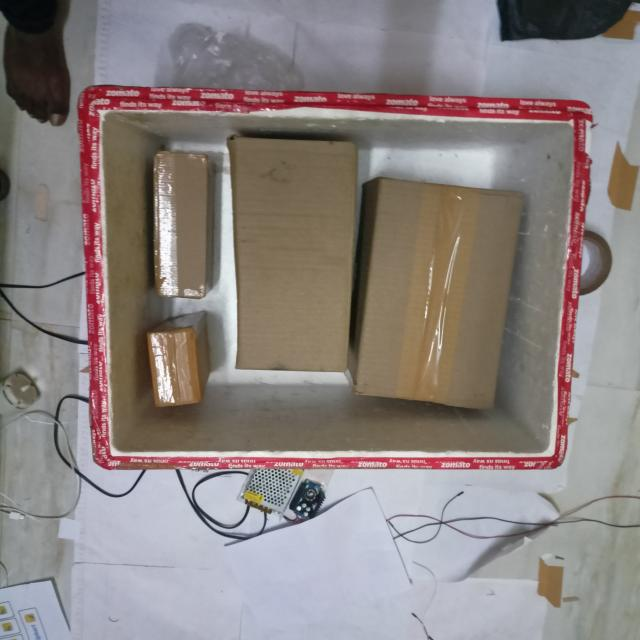box: (357, 174, 531, 408), (233, 141, 353, 366), (158, 158, 203, 298), (149, 333, 199, 408)
